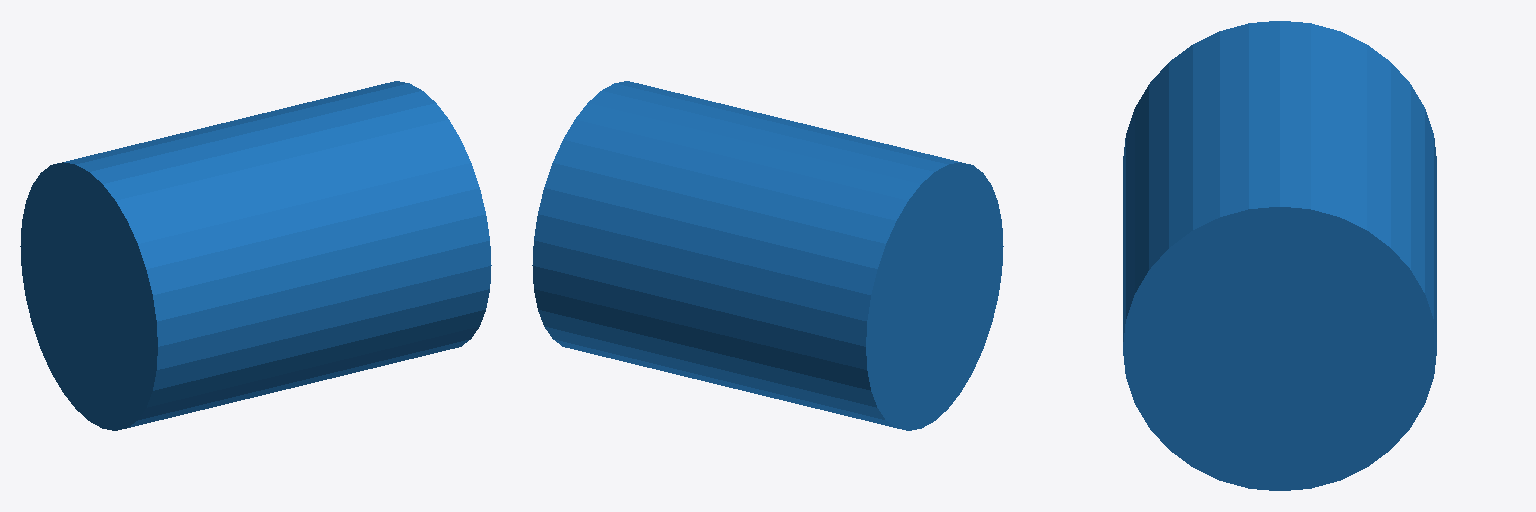
The robot description file, URDF, robot "panda":
<?xml version="1.0" ?>
<!-- =================================================================================== -->
<!-- |    This document was autogenerated by xacro from panda_suction.urdf.xacro       | -->
<!-- |    EDITING THIS FILE BY HAND IS NOT RECOMMENDED                                 | -->
<!-- =================================================================================== -->
<robot name="panda" xmlns:xacro="http://www.ros.org/wiki/xacro">
  <link name="panda_link0">
    <inertial>
      <origin rpy="0 0 0" xyz="0 0 0.05"/>
      <mass value="2.9"/>
      <inertia ixx="0.1" ixy="0" ixz="0" iyy="0.1" iyz="0" izz="0.1"/>
    </inertial>
    <visual>
      <geometry>
        <mesh filename="package://meshes/collision/link0.obj"/>
      </geometry>
      <material name="panda_white">
        <color rgba="1. 1. 1. 1."/>
      </material>
    </visual>
    <collision>
      <geometry>
        <mesh filename="package://meshes/collision/link0.obj"/>
      </geometry>
      <material name="panda_white"/>
    </collision>
  </link>
  <link name="panda_link1">
    <inertial>
      <origin rpy="0 0 0" xyz="0 -0.04 -0.05"/>
      <mass value="2.7"/>
      <inertia ixx="0.1" ixy="0" ixz="0" iyy="0.1" iyz="0" izz="0.1"/>
    </inertial>
    <visual>
      <geometry>
        <mesh filename="package://meshes/visual/link1.obj"/>
      </geometry>
      <material name="panda_white"/>
    </visual>
    <collision>
      <geometry>
        <mesh filename="package://meshes/collision/link1.obj"/>
      </geometry>
      <material name="panda_white"/>
    </collision>
  </link>
  <joint name="panda_joint1" type="revolute">
    <safety_controller k_position="100.0" k_velocity="40.0" soft_lower_limit="-2.8973" soft_upper_limit="2.8973"/>
    <origin rpy="0 0 0" xyz="0 0 0.333"/>
    <parent link="panda_link0"/>
    <child link="panda_link1"/>
    <axis xyz="0 0 1"/>
    <limit effort="87" lower="-2.8973" upper="2.8973" velocity="2.1750"/>
  </joint>
  <link name="panda_link2">
    <inertial>
      <origin rpy="0 0 0" xyz="0 -0.04 0.06"/>
      <mass value="2.73"/>
      <inertia ixx="0.1" ixy="0" ixz="0" iyy="0.1" iyz="0" izz="0.1"/>
    </inertial>
    <visual>
      <geometry>
        <mesh filename="package://meshes/visual/link2.obj"/>
      </geometry>
      <material name="panda_white"/>
    </visual>
    <collision>
      <geometry>
        <mesh filename="package://meshes/collision/link2.obj"/>
      </geometry>
      <material name="panda_white"/>
    </collision>
  </link>
  <joint name="panda_joint2" type="revolute">
    <safety_controller k_position="100.0" k_velocity="40.0" soft_lower_limit="-1.7628" soft_upper_limit="1.7628"/>
    <origin rpy="-1.57079632679 0 0" xyz="0 0 0"/>
    <parent link="panda_link1"/>
    <child link="panda_link2"/>
    <axis xyz="0 0 1"/>
    <limit effort="87" lower="-1.7628" upper="1.7628" velocity="2.1750"/>
  </joint>
  <link name="panda_link3">
    <inertial>
      <origin rpy="0 0 0" xyz="0.01 0.01 -0.05"/>
      <mass value="2.04"/>
      <inertia ixx="0.1" ixy="0" ixz="0" iyy="0.1" iyz="0" izz="0.1"/>
    </inertial>
    <visual>
      <geometry>
        <mesh filename="package://meshes/visual/link3.obj"/>
      </geometry>
      <material name="panda_red">
        <color rgba="1. 1. 1. 1."/>
      </material>
    </visual>
    <collision>
      <geometry>
        <mesh filename="package://meshes/collision/link3.obj"/>
      </geometry>
    </collision>
  </link>
  <joint name="panda_joint3" type="revolute">
    <safety_controller k_position="100.0" k_velocity="40.0" soft_lower_limit="-2.8973" soft_upper_limit="2.8973"/>
    <origin rpy="1.57079632679 0 0" xyz="0 -0.316 0"/>
    <parent link="panda_link2"/>
    <child link="panda_link3"/>
    <axis xyz="0 0 1"/>
    <limit effort="87" lower="-2.8973" upper="2.8973" velocity="2.1750"/>
  </joint>
  <link name="panda_link4">
    <inertial>
      <origin rpy="0 0 0" xyz="-0.03 0.03 0.02"/>
      <mass value="2.08"/>
      <inertia ixx="0.1" ixy="0" ixz="0" iyy="0.1" iyz="0" izz="0.1"/>
    </inertial>
    <visual>
      <geometry>
        <mesh filename="package://meshes/visual/link4.obj"/>
      </geometry>
      <material name="panda_white"/>
    </visual>
    <collision>
      <geometry>
        <mesh filename="package://meshes/collision/link4.obj"/>
      </geometry>
      <material name="panda_white"/>
    </collision>
  </link>
  <joint name="panda_joint4" type="revolute">
    <safety_controller k_position="100.0" k_velocity="40.0" soft_lower_limit="-3.0718" soft_upper_limit="-0.0698"/>
    <origin rpy="1.57079632679 0 0" xyz="0.0825 0 0"/>
    <parent link="panda_link3"/>
    <child link="panda_link4"/>
    <axis xyz="0 0 1"/>
    <limit effort="87" lower="-3.0718" upper="-0.0698" velocity="2.1750"/>
  </joint>
  <link name="panda_link5">
    <inertial>
      <origin rpy="0 0 0" xyz="0 0.04 -0.12"/>
      <mass value="3"/>
      <inertia ixx="0.1" ixy="0" ixz="0" iyy="0.1" iyz="0" izz="0.1"/>
    </inertial>
    <visual>
      <geometry>
        <mesh filename="package://meshes/visual/link5.obj"/>
      </geometry>
      <material name="panda_white"/>
    </visual>
    <collision>
      <geometry>
        <mesh filename="package://meshes/collision/link5.obj"/>
      </geometry>
      <material name="panda_white"/>
    </collision>
  </link>
  <joint name="panda_joint5" type="revolute">
    <safety_controller k_position="100.0" k_velocity="40.0" soft_lower_limit="-2.8973" soft_upper_limit="2.8973"/>
    <origin rpy="-1.57079632679 0 0" xyz="-0.0825 0.384 0"/>
    <parent link="panda_link4"/>
    <child link="panda_link5"/>
    <axis xyz="0 0 1"/>
    <limit effort="12" lower="-2.8973" upper="2.8973" velocity="2.6100"/>
  </joint>
  <link name="panda_link6">
    <inertial>
      <origin rpy="0 0 0" xyz="0.04 0 0"/>
      <mass value="1.3"/>
      <inertia ixx="0.1" ixy="0" ixz="0" iyy="0.1" iyz="0" izz="0.1"/>
    </inertial>
    <visual>
      <geometry>
        <mesh filename="package://meshes/visual/link6.obj"/>
      </geometry>
      <material name="panda_white"/>
    </visual>
    <collision>
      <geometry>
        <mesh filename="package://meshes/collision/link6.obj"/>
      </geometry>
      <material name="panda_white"/>
    </collision>
  </link>
  <joint name="panda_joint6" type="revolute">
    <safety_controller k_position="100.0" k_velocity="40.0" soft_lower_limit="-0.0175" soft_upper_limit="3.7525"/>
    <origin rpy="1.57079632679 0 0" xyz="0 0 0"/>
    <parent link="panda_link5"/>
    <child link="panda_link6"/>
    <axis xyz="0 0 1"/>
    <limit effort="12" lower="-0.0175" upper="3.7525" velocity="2.6100"/>
  </joint>
  <link name="panda_link7">
    <inertial>
      <origin rpy="0 0 0" xyz="0 0 0.08"/>
      <mass value=".2"/>
      <inertia ixx="0.1" ixy="0" ixz="0" iyy="0.1" iyz="0" izz="0.1"/>
    </inertial>
    <visual>
      <geometry>
        <mesh filename="package://meshes/collision/link7.obj"/>
      </geometry>
      <material name="panda_white"/>
    </visual>
    <collision>
      <geometry>
        <mesh filename="package://meshes/collision/link7.obj"/>
      </geometry>
      <material name="panda_white"/>
    </collision>
  </link>
  <joint name="panda_joint7" type="revolute">
    <safety_controller k_position="100.0" k_velocity="40.0" soft_lower_limit="-2.8973" soft_upper_limit="2.8973"/>
    <origin rpy="1.57079632679 0 0" xyz="0.088 0 0"/>
    <parent link="panda_link6"/>
    <child link="panda_link7"/>
    <axis xyz="0 0 1"/>
    <limit effort="12" lower="-2.8973" upper="2.8973" velocity="2.6100"/>
  </joint>
  <link name="panda_link8">
    <inertial>
      <origin rpy="0 0 0" xyz="0 0 0"/>
      <mass value="0.0"/>
      <inertia ixx="0.1" ixy="0" ixz="0" iyy="0.1" iyz="0" izz="0.1"/>
    </inertial>
  </link>
  <joint name="panda_joint8" type="fixed">
    <origin rpy="0 0 0" xyz="0 0 0.107"/>
    <parent link="panda_link7"/>
    <child link="panda_link8"/>
    <axis xyz="0 0 0"/>
  </joint>
  <material name="DarkGrey">
    <color rgba="0.2 0.2 0.2 1.0"/>
  </material>
  <link name="baseLink">
    <contact>
      <lateral_friction value="1.0"/>
      <rolling_friction value="0.0001"/>
      <inertia_scaling value="3.0"/>
    </contact>
    <inertial>
      <origin rpy="0 0 0" xyz="0 0 0"/>
      <mass value=".1"/>
      <inertia ixx="1" ixy="0" ixz="0" iyy="1" iyz="0" izz="1"/>
    </inertial>
    <visual>
      <origin rpy="0 0 0" xyz="0 0 0"/>
      <geometry>
        <mesh filename="suction/base.obj" scale="0.001 0.001 0.001"/>
      </geometry>
      <material name="DarkGrey"/>
    </visual>
    <collision>
      <origin rpy="0 0 0" xyz="0 0 0"/>
      <geometry>
        <mesh filename="suction/base.obj" scale="0.001 0.001 0.001"/>
      </geometry>
    </collision>
  </link>
  <link name="midLink">
    <contact>
      <lateral_friction value="1.0"/>
      <rolling_friction value="0.0001"/>
      <inertia_scaling value="3.0"/>
    </contact>
    <inertial>
      <origin rpy="0 0 0" xyz="0 0 0"/>
      <mass value=".1"/>
      <inertia ixx="1" ixy="0" ixz="0" iyy="1" iyz="0" izz="1"/>
    </inertial>
    <visual>
      <origin rpy="0 0 0" xyz="0 0 0"/>
      <geometry>
        <mesh filename="suction/mid.obj" scale="0.001 0.001 0.001"/>
      </geometry>
      <material name="DarkGrey"/>
    </visual>
    <collision>
      <origin rpy="0 0 0" xyz="0 0 0"/>
      <geometry>
        <mesh filename="suction/mid.obj" scale="0.001 0.001 0.001"/>
      </geometry>
    </collision>
  </link>
  <joint name="baseLink-midLink" type="fixed">
    <origin rpy="0 0 0" xyz="0 0 0.025"/>
    <parent link="baseLink"/>
    <child link="midLink"/>
  </joint>
  <joint name="link8_to_baseLink" type="fixed">
    <origin rpy="0 0 0.785" xyz="0 0 0"/>
    <parent link="panda_link8"/>
    <child link="baseLink"/>
    <axis xyz="0 0 0"/>
  </joint>
  <link name="headLink">
    <contact>
      <lateral_friction value="1.0"/>
      <rolling_friction value="0.0001"/>
      <inertia_scaling value="3.0"/>
    </contact>
    <inertial>
      <origin rpy="0 0 0" xyz="0 0 0"/>
      <mass value=".1"/>
      <inertia ixx="1" ixy="0" ixz="0" iyy="1" iyz="0" izz="1"/>
    </inertial>
    <visual>
      <origin rpy="0 0 0" xyz="0 0 0"/>
      <geometry>
        <mesh filename="suction/head.obj" scale="0.001 0.001 0.001"/>
      </geometry>
      <material name="darkgrey">
        <color rgba="0.2 0.2 0.2 1"/>
      </material>
    </visual>
    <collision>
      <origin rpy="0 0 0" xyz="0 0 0"/>
      <geometry>
        <mesh filename="suction/head.obj" scale="0.001 0.001 0.001"/>
      </geometry>
    </collision>
  </link>
  <joint name="tipJoint" type="fixed">
    <parent link="headLink"/>
    <child link="tipLink"/>
    <origin rpy="0.0 0.0 0.0" xyz="0.0 0.0 0.043"/>
    <axis xyz="0 0 1"/>
    <limit effort="150.0" lower="-6.28318530718" upper="6.28318530718" velocity="3.15"/>
    <dynamics damping="10.0" friction="0.0"/>
  </joint>
  <link name="tipLink">
    <contact>
      <lateral_friction value="1.0"/>
      <rolling_friction value="0.0001"/>
      <inertia_scaling value="3.0"/>
    </contact>
    <inertial>
      <origin rpy="0 0 0" xyz="0 0 -0.015"/>
      <mass value=".1"/>
      <inertia ixx="1" ixy="0" ixz="0" iyy="1" iyz="0" izz="1"/>
    </inertial>
    <visual>
      <origin rpy="0 0 0" xyz="0 0 -0.015"/>
      <!-- <geometry> -->
      <!--   <mesh filename="suction/tip.obj" scale="0.001 0.001 0.001"/> -->
      <!-- </geometry> -->
      <geometry>
        <cylinder length="0.028" radius="0.01"/>
      </geometry>
      <material name="blue">
        <color rgba="0.18039216 0.50588235 0.77254902 1"/>
      </material>
    </visual>
    <collision>
      <origin rpy="0 0 0" xyz="0 0 -0.015"/>
      <!-- <geometry> -->
      <!--   <mesh filename="suction/tip.obj" scale="0.001 0.001 0.001"/> -->
      <!-- </geometry> -->
      <geometry>
        <cylinder length="0.028" radius="0.01"/>
      </geometry>
    </collision>
  </link>
  <!-- <link name="asdfLink">
    <contact>
      <lateral_friction value="1.0"/>
      <rolling_friction value="0.0001"/>
      <inertia_scaling value="3.0"/>
    </contact>
    <inertial>
      <origin rpy="0 0 0" xyz="0 0 0"/>
       <mass value=".1"/>
       <inertia ixx="1" ixy="0" ixz="0" iyy="1" iyz="0" izz="1"/>
    </inertial>
    <visual>
      <origin rpy="0 0 0" xyz="0 0 0"/>
      <geometry>
        <cylinder length="0.028" radius="0.001"/>
      </geometry>
    </visual>
  </link>

  <joint name="asdfoint" type="fixed">
    <parent link="tipLink"/>
    <child link="asdfLink"/>
    <origin rpy="0.0 0.0 0.0" xyz="0.0 0.0 0.0"/>
    <axis xyz="0 0 1"/>
    <limit effort="150.0" lower="-6.28318530718" upper="6.28318530718" velocity="3.15"/>
    <dynamics damping="10.0" friction="0.0"/>
  </joint> -->
  <joint name="baseLink_to_headLink" type="fixed">
    <origin rpy="0 0 0" xyz="0 0 0.091"/>
    <parent link="baseLink"/>
    <child link="headLink"/>
    <axis xyz="0 0 0"/>
  </joint>
</robot>

--- What the picture shows (computed from the rendered views, not written in the file) ---
The picture shows the robot from 3 angles, left to right: view 1: azimuth 30°, elevation 25°; view 2: azimuth 150°, elevation 25°; view 3: azimuth 270°, elevation 25°; orthographic projection.
Model panda with 13 links and 12 joints (7 revolute, 5 fixed), rooted at panda_link0, posed joints at zero except 1 at the middle of their limits (panda_joint4 = -1.57).
Links seen in each view (by area): view 1: tipLink; view 2: tipLink; view 3: tipLink.
Boxes of the visible links, x1=… form: tipLink: x1=20, y1=81, x2=491, y2=430; tipLink: x1=532, y1=81, x2=1003, y2=430; tipLink: x1=1123, y1=21, x2=1436, y2=490.
Bounding box of the posed robot: 0.028 × 0.02 × 0.02 m (x, y, z).
Meshes: 11 distinct files referenced, 0 mesh visuals loaded (none loaded); not drawn: 11 (reference not matched to a file when rendering).